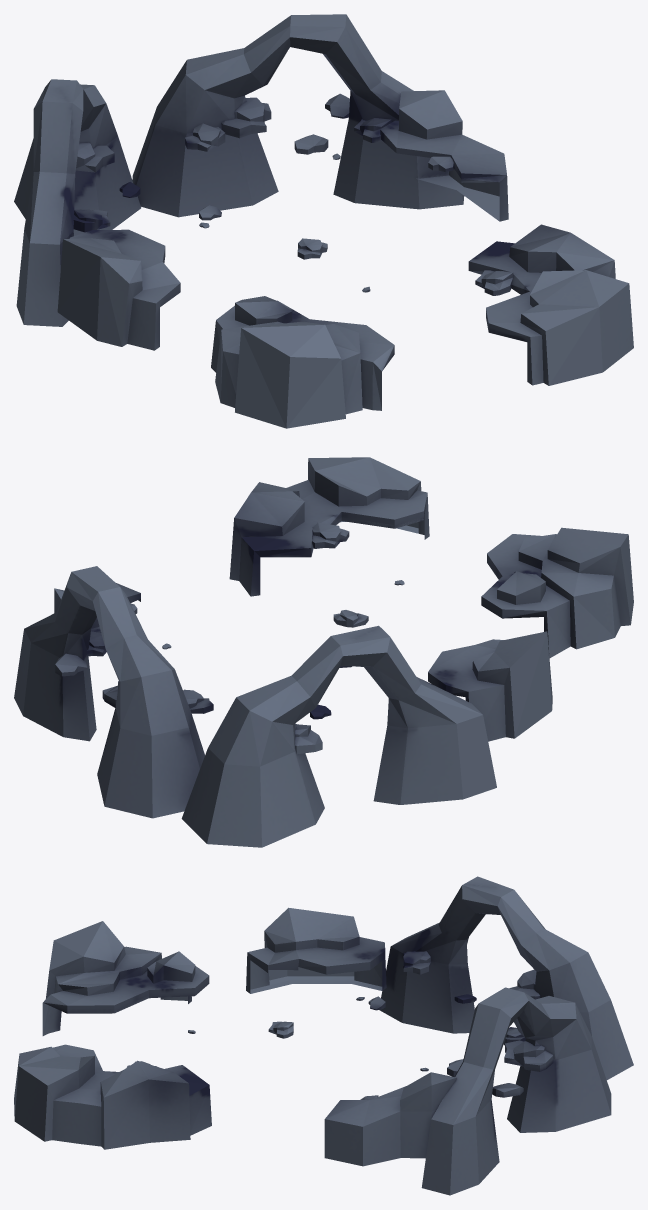
Rendered from Stone_01.FBX.
3 renders of one model, top to bottom at view 1: azimuth 30°, elevation 25°; view 2: azimuth 150°, elevation 25°; view 3: azimuth 270°, elevation 25°, orthographic. The views are drawn at different scales.
Parts seen in each view (by area): view 1: Stone_01; view 2: Stone_01; view 3: Stone_01.
Part boxes in pixels (x1,y1,x2,y2): Stone_01: (14,14,633,428); Stone_01: (14,457,633,847); Stone_01: (14,876,633,1195).
Size of the model in its own units: 25.97 by 9.17 by 34.55.
